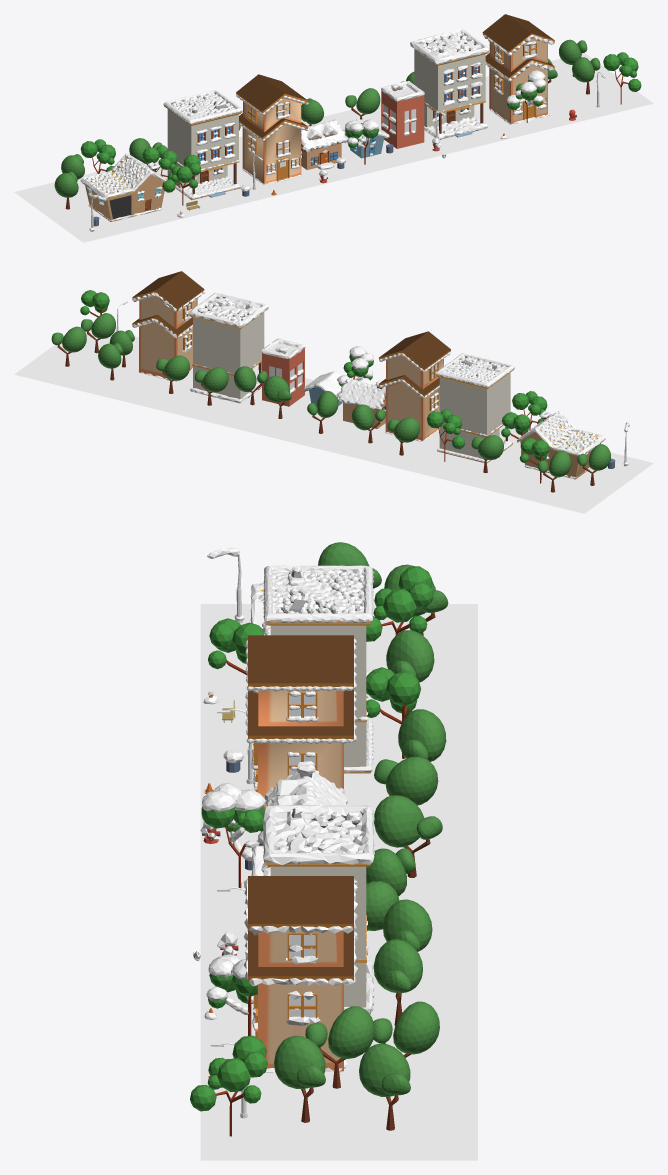
File: Snowmap.fbx
The picture shows the model from 3 angles, top to bottom: view 1: azimuth 30°, elevation 25°; view 2: azimuth 150°, elevation 25°; view 3: azimuth 270°, elevation 25°; orthographic projection. The views are drawn at different scales.
Visible parts, largest first — view 1: SnowBall.015; view 2: SnowBall.015; view 3: SnowBall.015.
Part boxes in pixels (left/top/right/bottom): SnowBall.015: left=14, top=14, right=653, bottom=242; SnowBall.015: left=14, top=271, right=653, bottom=513; SnowBall.015: left=190, top=542, right=477, bottom=1160.
Size of the model in its own units: 914 by 636 by 4177.
Materials: 53 (7 with a texture image).
